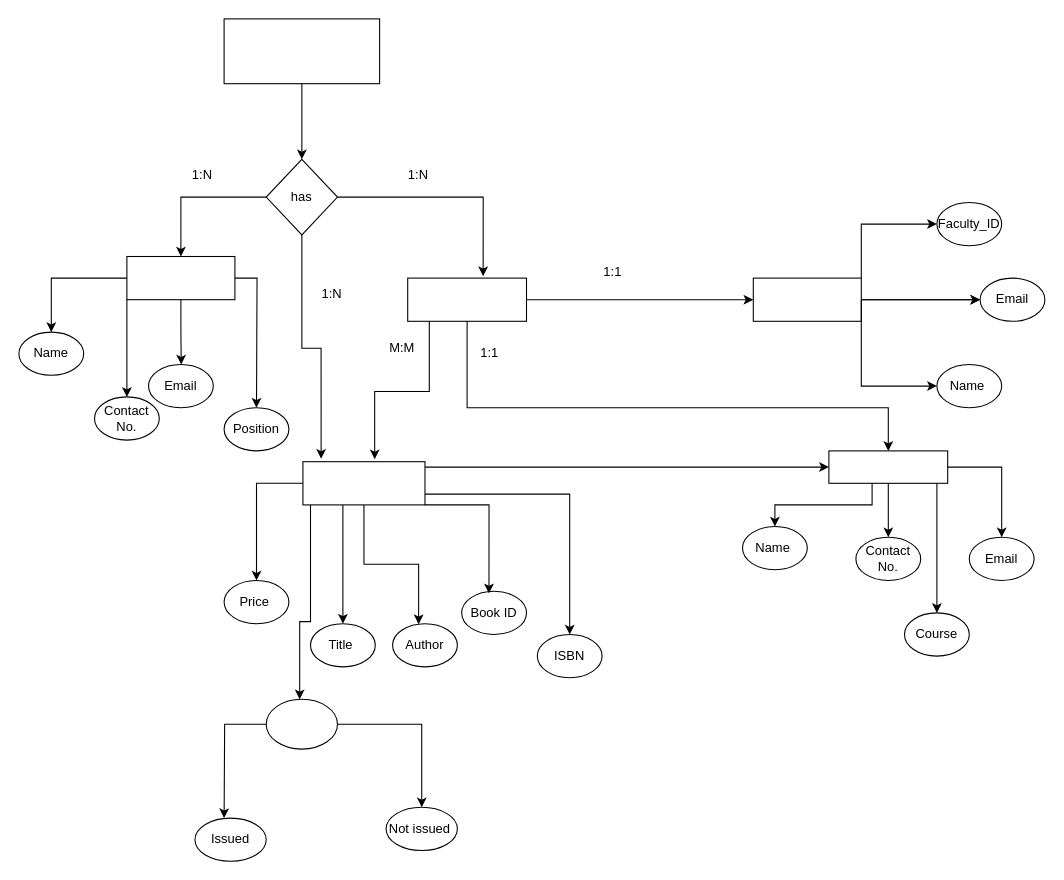
This 1064x880 diagram has some shape labels left out. The centre of each missing label's shape, as x and y in pixels:
"Books" goes at (x=363, y=483).
"Faculty" goes at (x=806, y=299).
"LIBRARY" goes at (x=301, y=51).
"Member" goes at (x=466, y=299).
"Staff" goes at (x=180, y=277).
"Status" goes at (x=301, y=723).
"Student" goes at (x=888, y=466).
